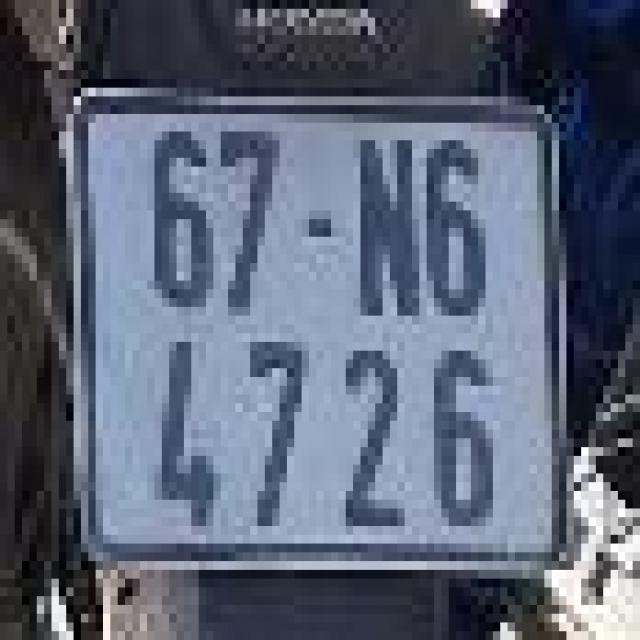2: (331, 333, 419, 535)
4: (143, 329, 224, 530)
6: (143, 114, 217, 324), (420, 132, 500, 324), (430, 338, 504, 530)
7: (239, 333, 320, 535), (213, 123, 287, 324)
N: (357, 118, 423, 329)
